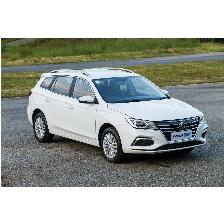EV: (28, 67, 210, 164)
